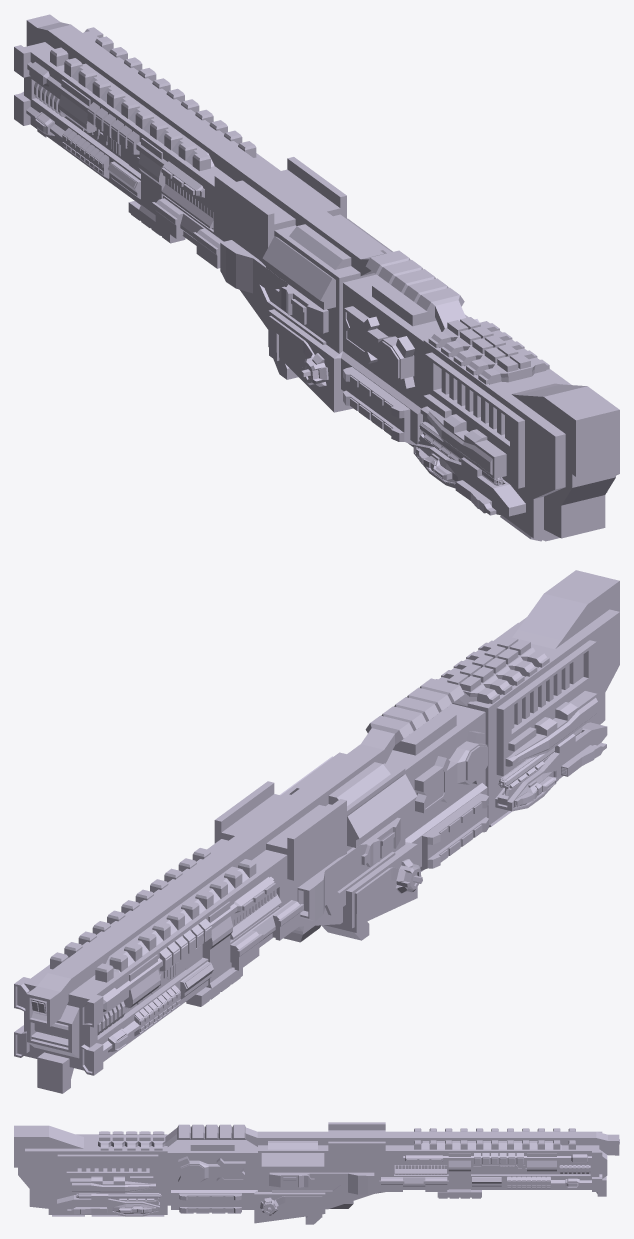
Rendered from generated-ship-144.obj.
3 renders of one model, top to bottom at view 1: azimuth 30°, elevation 25°; view 2: azimuth 150°, elevation 25°; view 3: azimuth 270°, elevation 25°, orthographic. The views are drawn at different scales.
Visible parts, largest first — view 1: hull.long.001_Cube; view 2: hull.long.001_Cube; view 3: hull.long.001_Cube.
Part boxes in pixels (x1=…): hull.long.001_Cube: x1=14, y1=14, x2=619, y2=541; hull.long.001_Cube: x1=14, y1=570, x2=619, y2=1093; hull.long.001_Cube: x1=14, y1=1122, x2=619, y2=1224.
Size of the model in its own units: 3.44 by 4.34 by 28.03.
